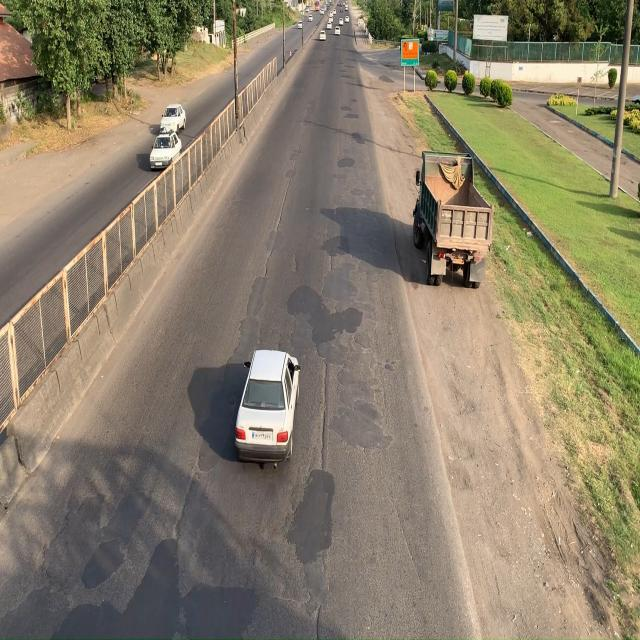Truck: (411, 150, 494, 290)
cars: (234, 352, 300, 454), (149, 134, 183, 169)
